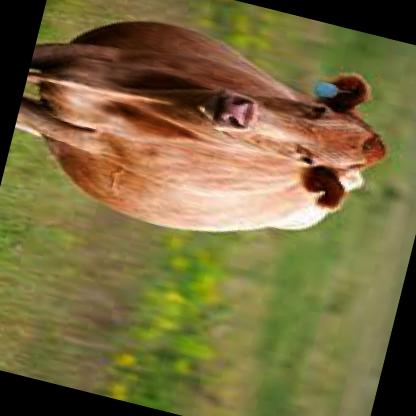Cow: (0, 0, 409, 287)
